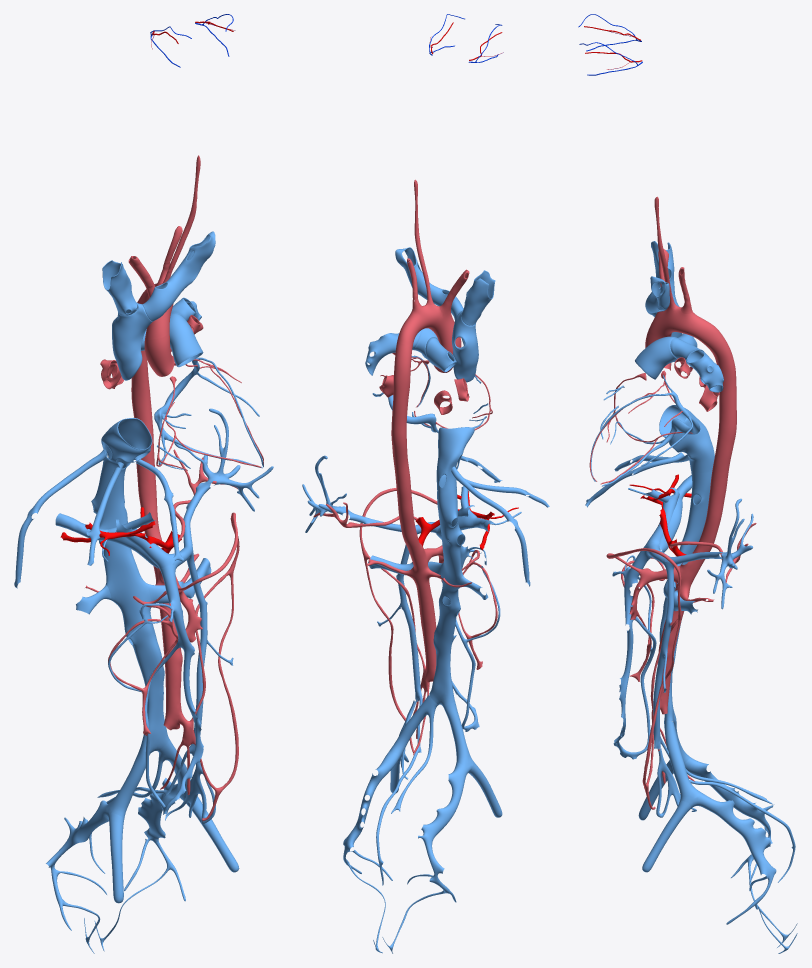
Rendered from organ_vasculature_m.glb.
3 views of the same model, side by side, from view 1: azimuth 30°, elevation 25°; view 2: azimuth 150°, elevation 25°; view 3: azimuth 270°, elevation 25° (orthographic). The views are drawn at different scales.
Parts seen in each view (by area): view 1: VH_M_inferior_vena_cava_b, VH_M_descending_aorta_b, VH_M_inferior_vena_cava_a, VH_M_superior_mesenteric_vein, VH_M_splenic_vein, VH_M_brachiocephalic_vein_L, VH_M_superior_vena_cava, VH_M_marginal_artery_of_Drummond, VH_M_descending_aorta_a, VH_M_inferior_mesenteric_vein, VH_M_brachiocephalic_vein_R, VH_M_pulmonary_trunk (+18 smaller); view 2: VH_M_inferior_vena_cava_b, VH_M_descending_aorta_b, VH_M_descending_aorta_a, VH_M_inferior_vena_cava_a, VH_M_aortic_arch, VH_M_internal_iliac_vein_R, VH_M_superior_vena_cava, VH_M_splenic_vein, VH_M_brachiocephalic_vein_R, VH_M_brachiocephalic_vein_L, VH_M_internal_iliac_vein_L, VH_M_marginal_artery_of_Drummond (+8 smaller); view 3: VH_M_descending_aorta_a, VH_M_descending_aorta_b, VH_M_inferior_vena_cava_b, VH_M_inferior_vena_cava_a, VH_M_internal_iliac_vein_L, VH_M_aortic_arch, VH_M_splenic_vein, VH_M_superior_mesenteric_vein, VH_M_pulmonary_artery_L, VH_M_inferior_mesenteric_vein, VH_M_marginal_artery_of_Drummond, VH_M_common_iliac_vein_L (+12 smaller).
Part boxes in pixels (x1=…): VH_M_inferior_vena_cava_b: x1=91, y1=474, x2=169, y2=753; VH_M_descending_aorta_b: x1=136, y1=459, x2=182, y2=730; VH_M_inferior_vena_cava_a: x1=101, y1=417, x2=152, y2=482; VH_M_superior_mesenteric_vein: x1=158, y1=564, x2=203, y2=812; VH_M_splenic_vein: x1=170, y1=408, x2=273, y2=567; VH_M_brachiocephalic_vein_L: x1=142, y1=231, x2=215, y2=321; VH_M_superior_vena_cava: x1=112, y1=303, x2=152, y2=380; VH_M_marginal_artery_of_Drummond: x1=179, y1=512, x2=239, y2=820; VH_M_descending_aorta_a: x1=131, y1=298, x2=154, y2=461; VH_M_inferior_mesenteric_vein: x1=186, y1=547, x2=207, y2=755; VH_M_brachiocephalic_vein_R: x1=102, y1=260, x2=137, y2=315; VH_M_pulmonary_trunk: x1=169, y1=313, x2=203, y2=367; VH_M_inferior_vena_cava_b: x1=429, y1=489, x2=465, y2=707; VH_M_descending_aorta_b: x1=396, y1=485, x2=436, y2=682; VH_M_descending_aorta_a: x1=391, y1=343, x2=412, y2=489; VH_M_inferior_vena_cava_a: x1=436, y1=427, x2=474, y2=493; VH_M_aortic_arch: x1=397, y1=304, x2=459, y2=348; VH_M_internal_iliac_vein_R: x1=418, y1=762, x2=468, y2=883; VH_M_superior_vena_cava: x1=451, y1=310, x2=478, y2=382; VH_M_splenic_vein: x1=302, y1=455, x2=440, y2=534; VH_M_brachiocephalic_vein_R: x1=461, y1=270, x2=495, y2=325; VH_M_brachiocephalic_vein_L: x1=395, y1=247, x2=463, y2=319; VH_M_internal_iliac_vein_L: x1=343, y1=752, x2=399, y2=853; VH_M_marginal_artery_of_Drummond: x1=359, y1=487, x2=437, y2=752; VH_M_descending_aorta_a: x1=709, y1=334, x2=736, y2=488; VH_M_descending_aorta_b: x1=657, y1=485, x2=726, y2=714; VH_M_inferior_vena_cava_b: x1=659, y1=470, x2=712, y2=722; VH_M_inferior_vena_cava_a: x1=659, y1=405, x2=714, y2=472; VH_M_internal_iliac_vein_L: x1=696, y1=791, x2=776, y2=881; VH_M_aortic_arch: x1=647, y1=306, x2=721, y2=348; VH_M_splenic_vein: x1=645, y1=498, x2=753, y2=609; VH_M_superior_mesenteric_vein: x1=613, y1=546, x2=651, y2=753; VH_M_pulmonary_artery_L: x1=670, y1=338, x2=723, y2=392; VH_M_inferior_mesenteric_vein: x1=653, y1=561, x2=673, y2=749; VH_M_marginal_artery_of_Drummond: x1=606, y1=548, x2=681, y2=809; VH_M_common_iliac_vein_L: x1=665, y1=720, x2=698, y2=807.
Bounding box in the file's own units: 0.2362 × 0.8718 × 0.1874.
